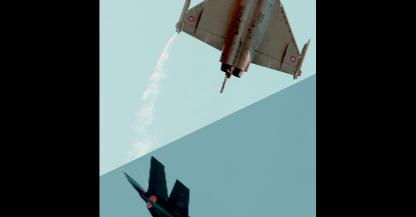F22: (122, 153, 289, 216)
RQ4: (175, 0, 312, 93)
